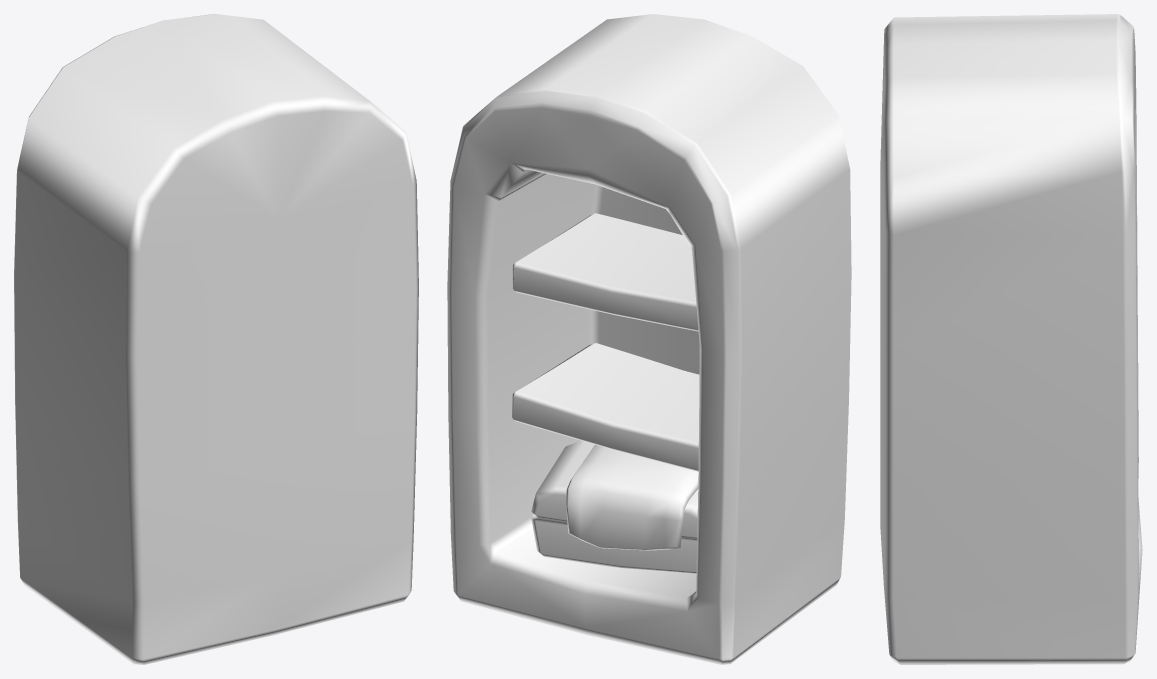
The model's file is P_StoneDresserTall.glb.
3 renders of one model, left to right at view 1: azimuth 30°, elevation 25°; view 2: azimuth 150°, elevation 25°; view 3: azimuth 270°, elevation 25°, orthographic. The views are drawn at different scales.
Visible parts, largest first — view 1: P_StoneDresserTall; view 2: P_StoneDresserTall; view 3: P_StoneDresserTall.
Part boxes in pixels (left/top/right/bottom): P_StoneDresserTall: left=14, top=14, right=418, bottom=664; P_StoneDresserTall: left=447, top=14, right=851, bottom=664; P_StoneDresserTall: left=880, top=14, right=1142, bottom=664.
Size of the model in its own units: 1.03 by 1.8 by 0.7639.
Materials: 1 (1 with a texture image).
